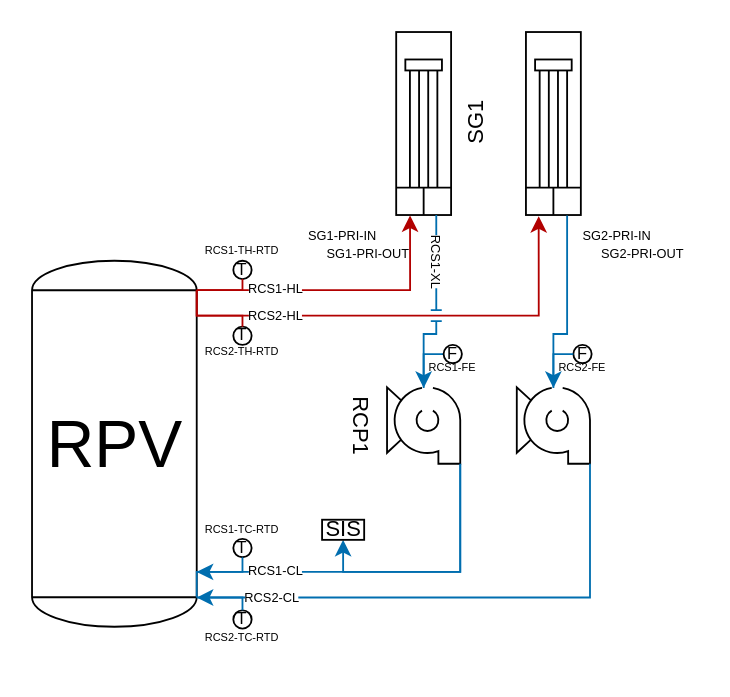
Image size: 730x697. Some labels were removed from this diagram. Here are the shapes that lost their labels. From the top down, the centre of each, then its label:
At point 552,122: "SG2".
At point 552,424: "RCP2".
